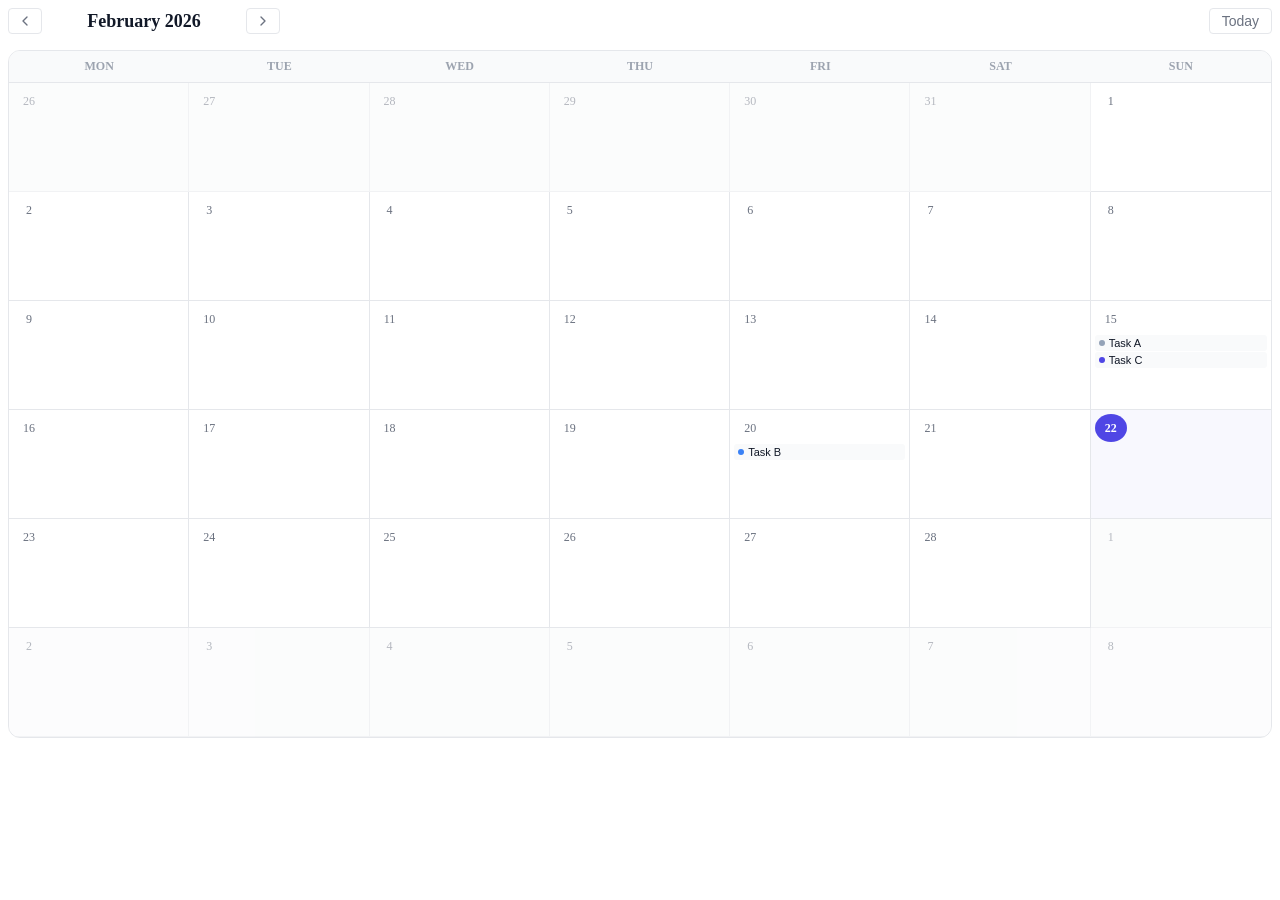
CalendarView › navigates to next month
Click the button named "Next month".
click(263, 21)  # box top-left (246, 8), bottom-right (280, 34)
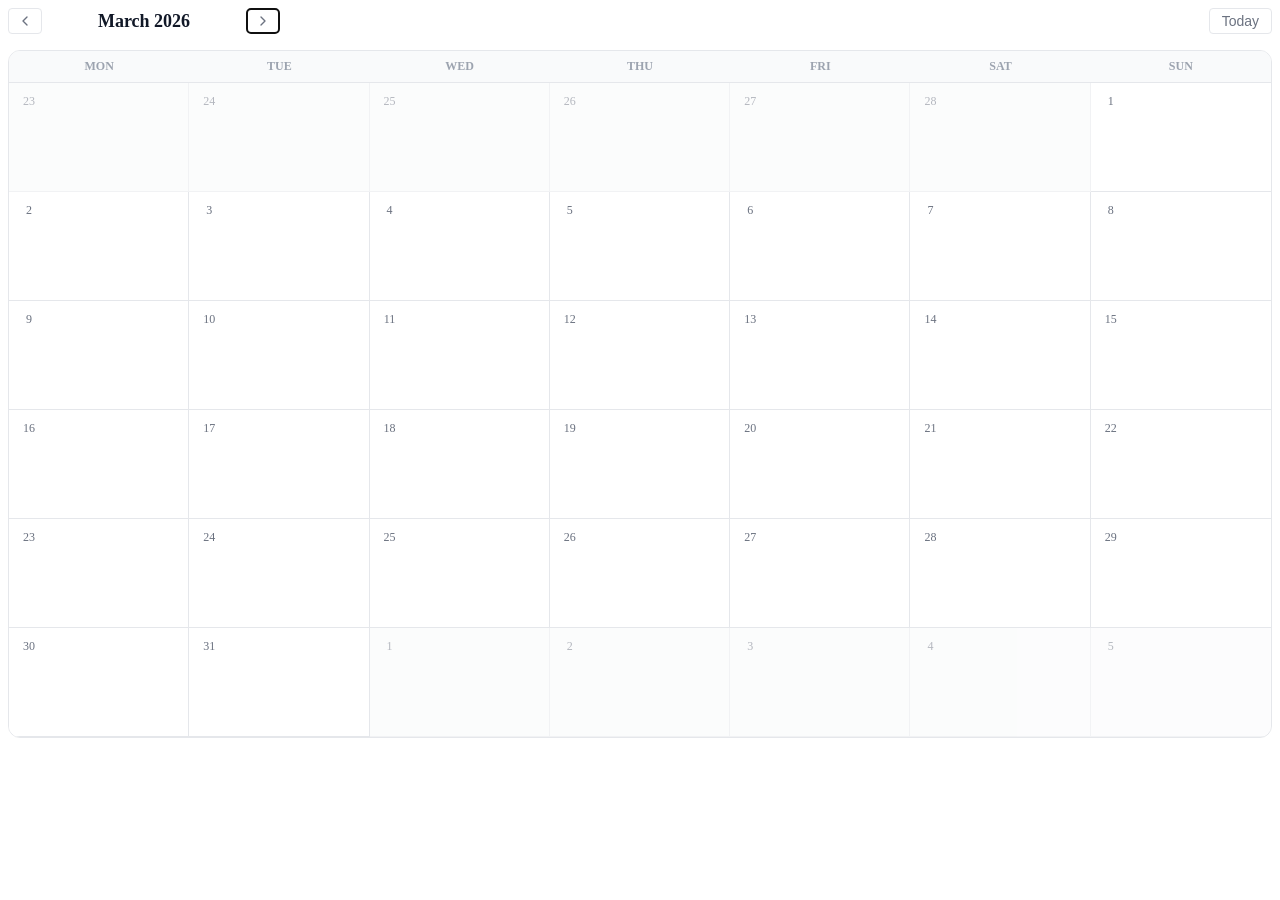
expect the text with class "db-calendar-view__month" no longer shows "February 2026": met
